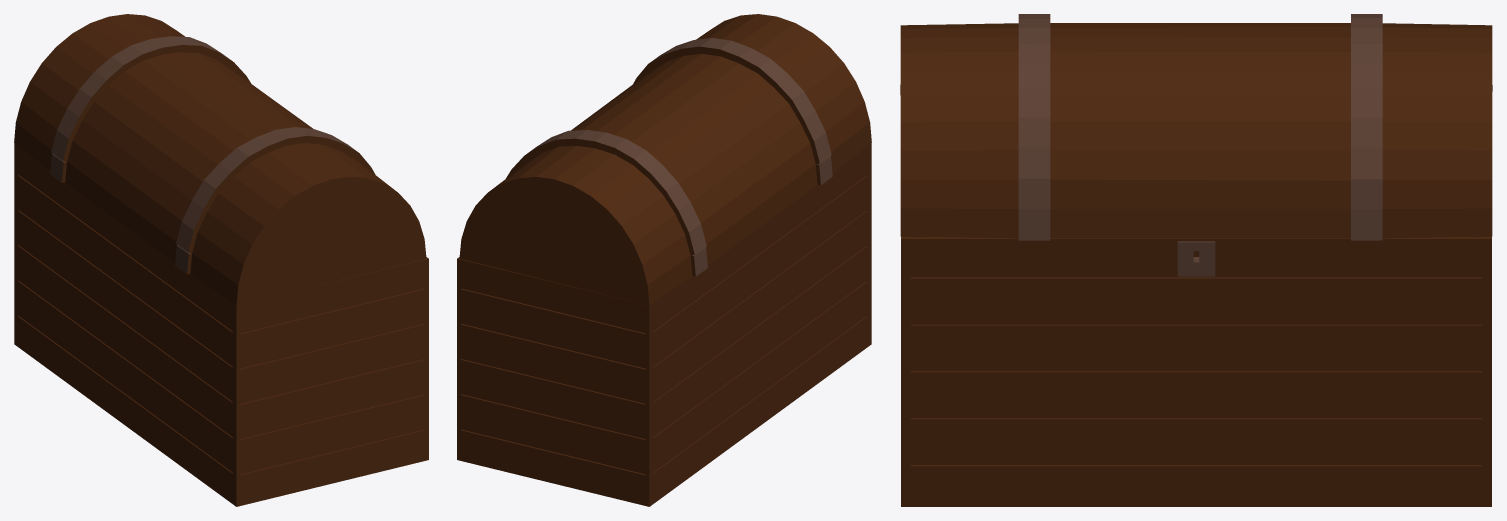
Rendered from chest.fbx.
The picture shows the model from 3 angles, left to right: view 1: azimuth 30°, elevation 25°; view 2: azimuth 150°, elevation 25°; view 3: azimuth 270°, elevation 25°; orthographic projection. The views are drawn at different scales.
Visible parts, largest first — view 1: ChestBody, ChestLid; view 2: ChestBody, ChestLid; view 3: ChestBody, ChestLid, Cube.
Boxes of the visible parts, x1,y1,x2,y2 form: ChestBody: (14,143,428,506); ChestLid: (14,14,426,305); ChestBody: (457,143,871,506); ChestLid: (459,14,871,305); ChestBody: (901,236,1491,506); ChestLid: (900,14,1492,240); Cube: (1177,241,1215,276).
Bounding box in the file's own units: 211 × 311 × 401.
